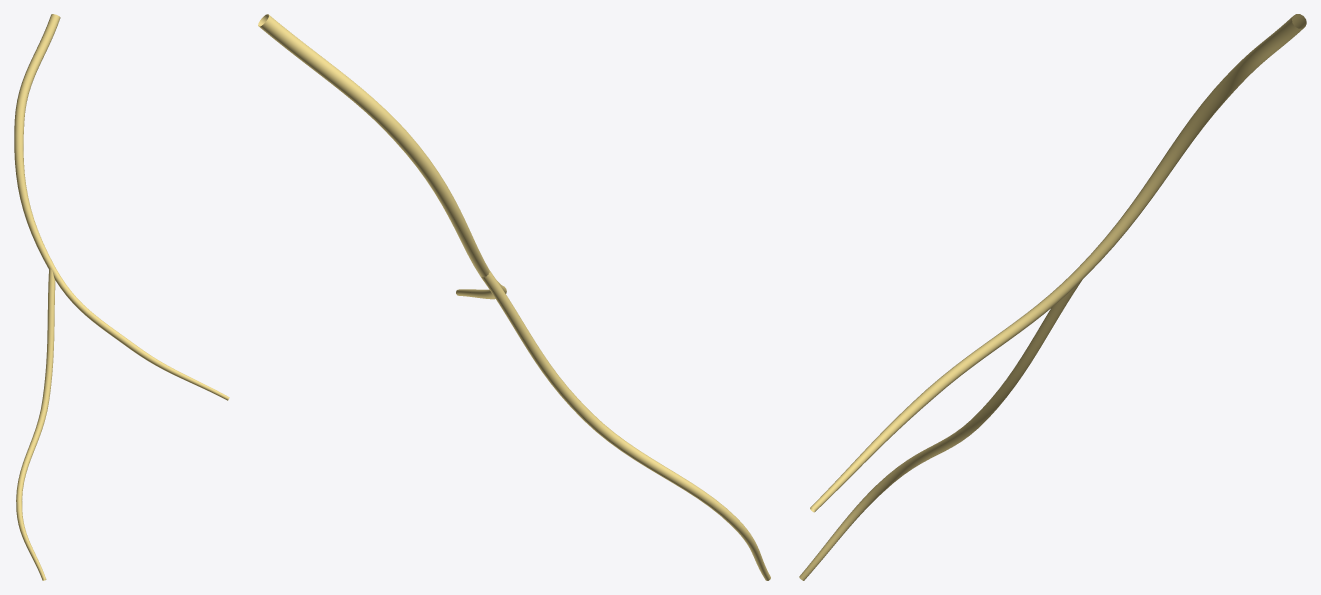
3 views of the same model, side by side, from view 1: azimuth 30°, elevation 25°; view 2: azimuth 150°, elevation 25°; view 3: azimuth 270°, elevation 25° (orthographic). The views are drawn at different scales.
Visible parts, largest first — view 1: ZA_61e10d70d37bc9f7; view 2: ZA_61e10d70d37bc9f7; view 3: ZA_61e10d70d37bc9f7.
Part boxes in pixels (x1,y1,x2,y2): ZA_61e10d70d37bc9f7: [14, 14, 229, 580]; ZA_61e10d70d37bc9f7: [258, 14, 770, 580]; ZA_61e10d70d37bc9f7: [799, 14, 1306, 580].
Bounding box in the file's own units: 0.0456 × 0.0932 × 0.0617.
